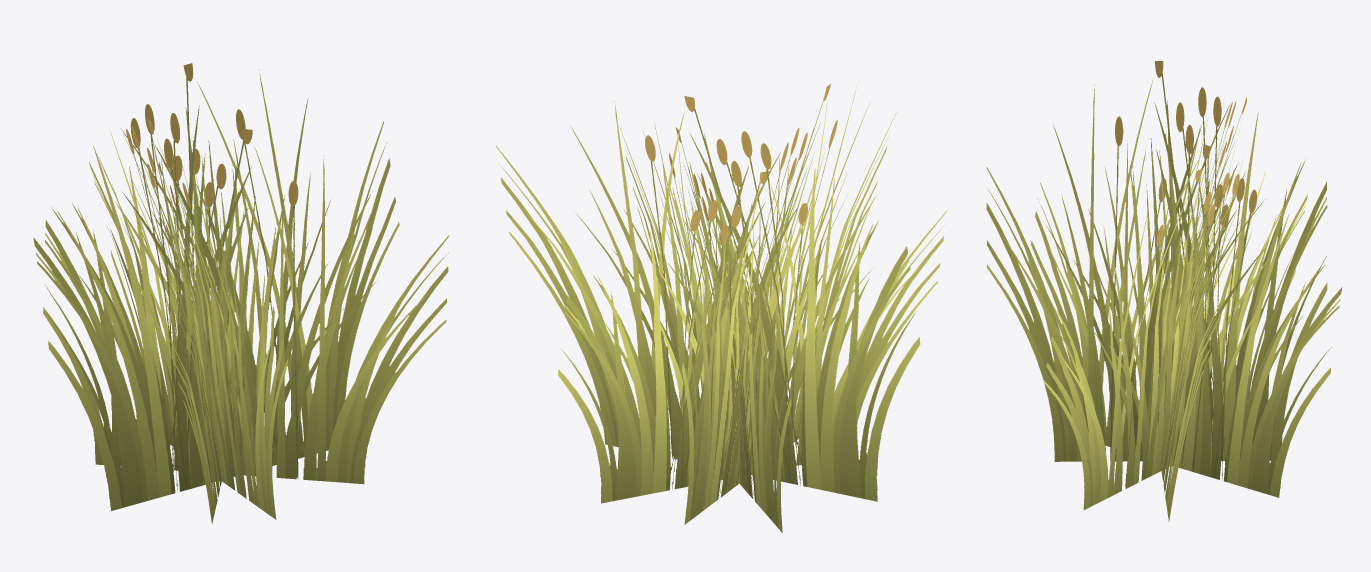
The model's file is savanna_grass_2.glb.
3 renders of one model, left to right at view 1: azimuth 30°, elevation 25°; view 2: azimuth 150°, elevation 25°; view 3: azimuth 270°, elevation 25°, orthographic. The views are drawn at different scales.
Visible parts, largest first — view 1: savanna_grass_2; view 2: savanna_grass_2; view 3: savanna_grass_2.
Part boxes in pixels (<box>): savanna_grass_2: <box>33,63,449,523</box>; savanna_grass_2: <box>496,80,947,532</box>; savanna_grass_2: <box>986,61,1342,521</box>.
Size of the model in its own units: 0.9058 by 0.8903 by 0.8105.
1 material, 1 textured.
